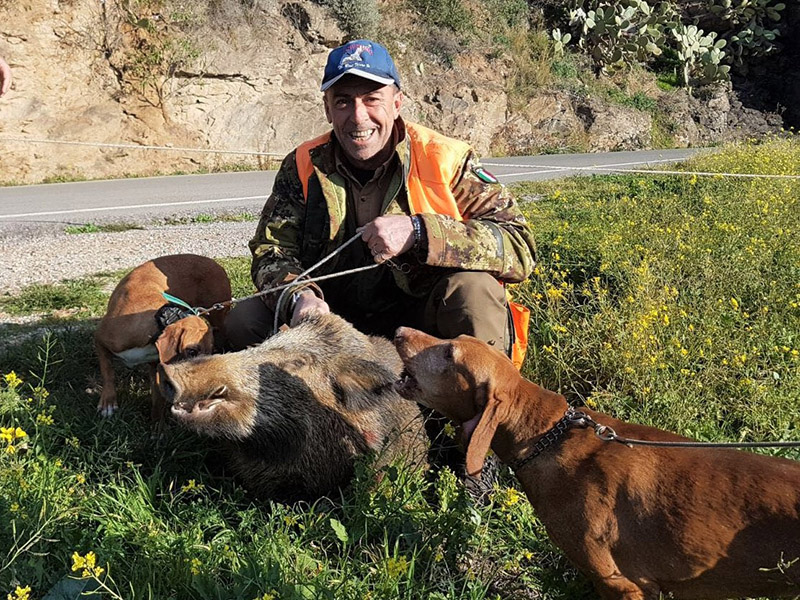cacciatore: (258, 35, 544, 328)
cane da caccia: (395, 319, 797, 600)
cinghiale: (146, 314, 398, 473)
